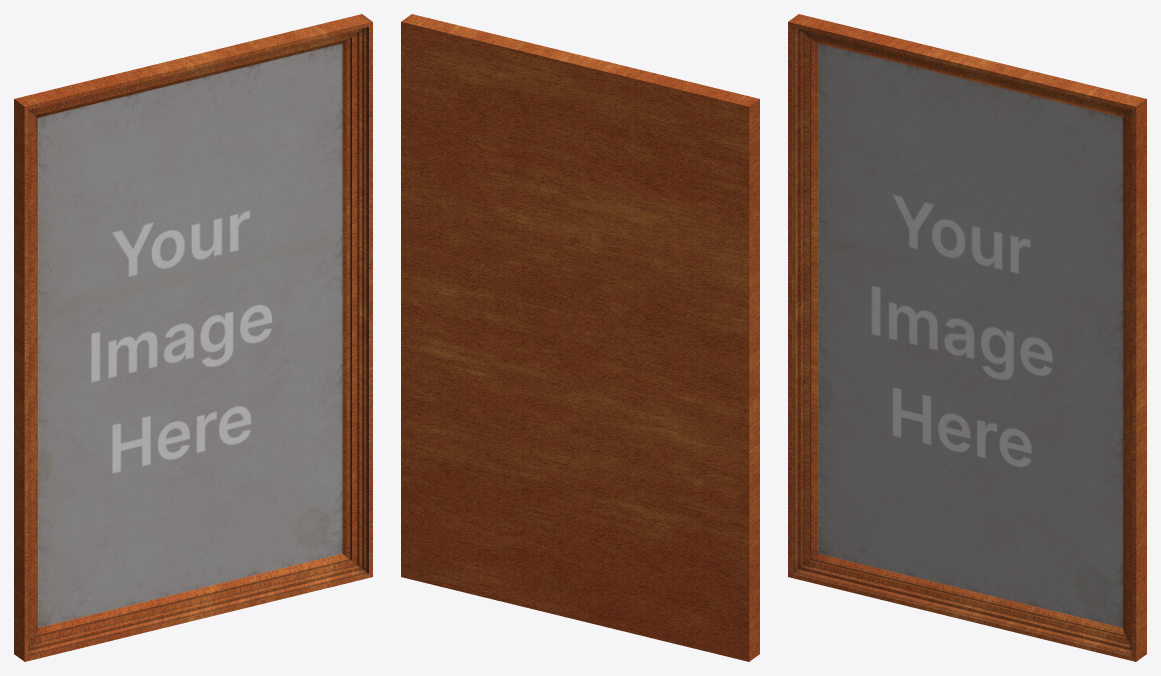
Rendered from frame_wooden_for_photo_or_painting.glb.
3 renders of one model, left to right at view 1: azimuth 30°, elevation 25°; view 2: azimuth 150°, elevation 25°; view 3: azimuth 330°, elevation 25°, orthographic.
Parts seen in each view (by area): view 1: Picture, Frame.v1.1; view 2: Frame.v1.1; view 3: Picture, Frame.v1.1.
Part boxes in pixels (x1,y1,x2,y2): Picture: [37, 43, 342, 627]; Frame.v1.1: [14, 14, 372, 661]; Frame.v1.1: [401, 14, 759, 661]; Picture: [818, 43, 1123, 627]; Frame.v1.1: [788, 14, 1146, 661].
Size of the model in its own units: 0.1442 by 0.2198 by 0.00768.
2 materials, 2 textured.
